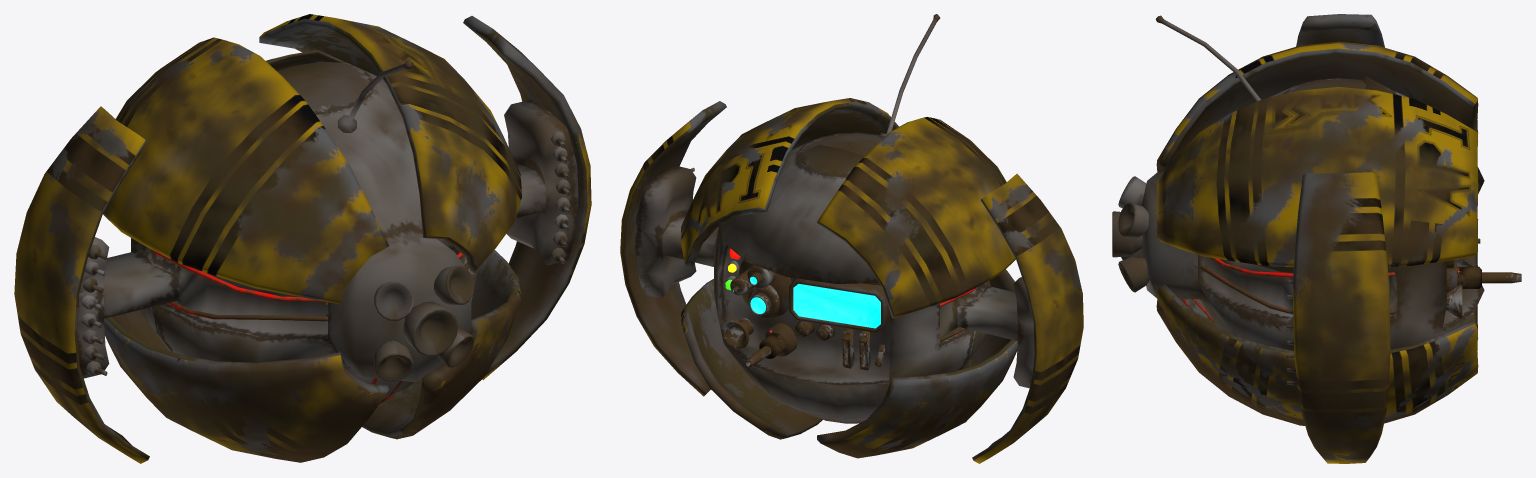
The model's file is Drone.fbx.
3 views of the same model, side by side, from view 1: azimuth 30°, elevation 25°; view 2: azimuth 150°, elevation 25°; view 3: azimuth 270°, elevation 25° (orthographic). The views are drawn at different scales.
Visible parts, largest first — view 1: shell, Interior, Cover shell, Main Thruster supports, side thrusters, Main Thruster, Wires, Antena; view 2: shell, Interior, Cover shell, Screen, Cameras, Kobs/sliders, Cannon, Flashlight, Antena; view 3: shell, Cover shell, Interior, Main Thruster supports, Cannon, Wires, Main Thruster, Antena, Flashlight.
Boxes of the visible parts, x1=… form: shell: x1=103, y1=14, x2=521, y2=462; Interior: x1=77, y1=50, x2=578, y2=397; Cover shell: x1=14, y1=16, x2=591, y2=463; Main Thruster supports: x1=373, y1=265, x2=473, y2=381; side thrusters: x1=81, y1=131, x2=570, y2=375; Main Thruster: x1=403, y1=301, x2=458, y2=356; Wires: x1=153, y1=250, x2=468, y2=404; Antena: x1=337, y1=60, x2=412, y2=132; shell: x1=681, y1=98, x2=1017, y2=458; Interior: x1=635, y1=132, x2=1034, y2=423; Cover shell: x1=620, y1=101, x2=1083, y2=463; Screen: x1=789, y1=278, x2=889, y2=332; Cameras: x1=730, y1=260, x2=791, y2=318; Kobs/sliders: x1=795, y1=320, x2=885, y2=370; Cannon: x1=745, y1=323, x2=797, y2=367; Flashlight: x1=721, y1=318, x2=753, y2=349; Antena: x1=880, y1=14, x2=940, y2=136; shell: x1=1156, y1=41, x2=1478, y2=425; Cover shell: x1=1292, y1=14, x2=1390, y2=463; Interior: x1=1140, y1=76, x2=1484, y2=350; Main Thruster supports: x1=1118, y1=176, x2=1149, y2=292; Cannon: x1=1446, y1=261, x2=1521, y2=292; Wires: x1=1182, y1=257, x2=1395, y2=323; Main Thruster: x1=1112, y1=211, x2=1142, y2=257; Antena: x1=1156, y1=15, x2=1260, y2=101; Flashlight: x1=1445, y1=284, x2=1462, y2=318.
Bounding box in the file's own units: 271 × 218 × 208.
